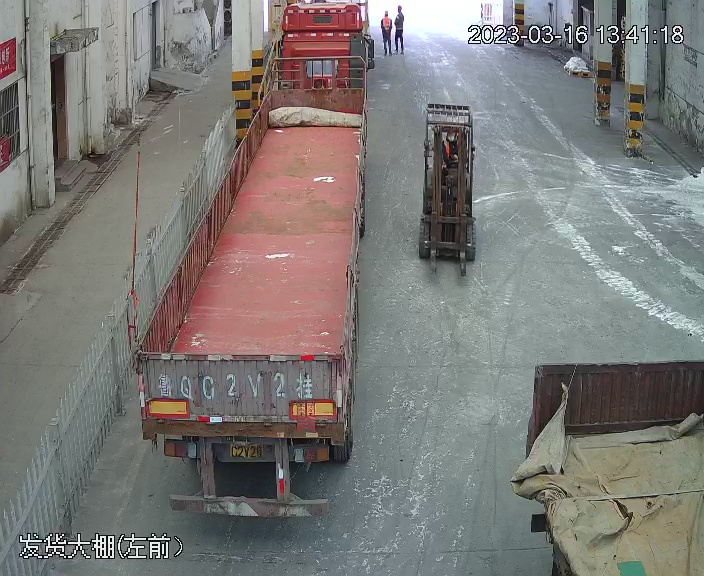head: (380, 8, 393, 24), (396, 5, 405, 21)
helmet: (397, 5, 403, 11), (384, 10, 389, 15)
people: (379, 8, 395, 57), (395, 4, 406, 55)
truck: (106, 3, 376, 529), (529, 357, 704, 576)
